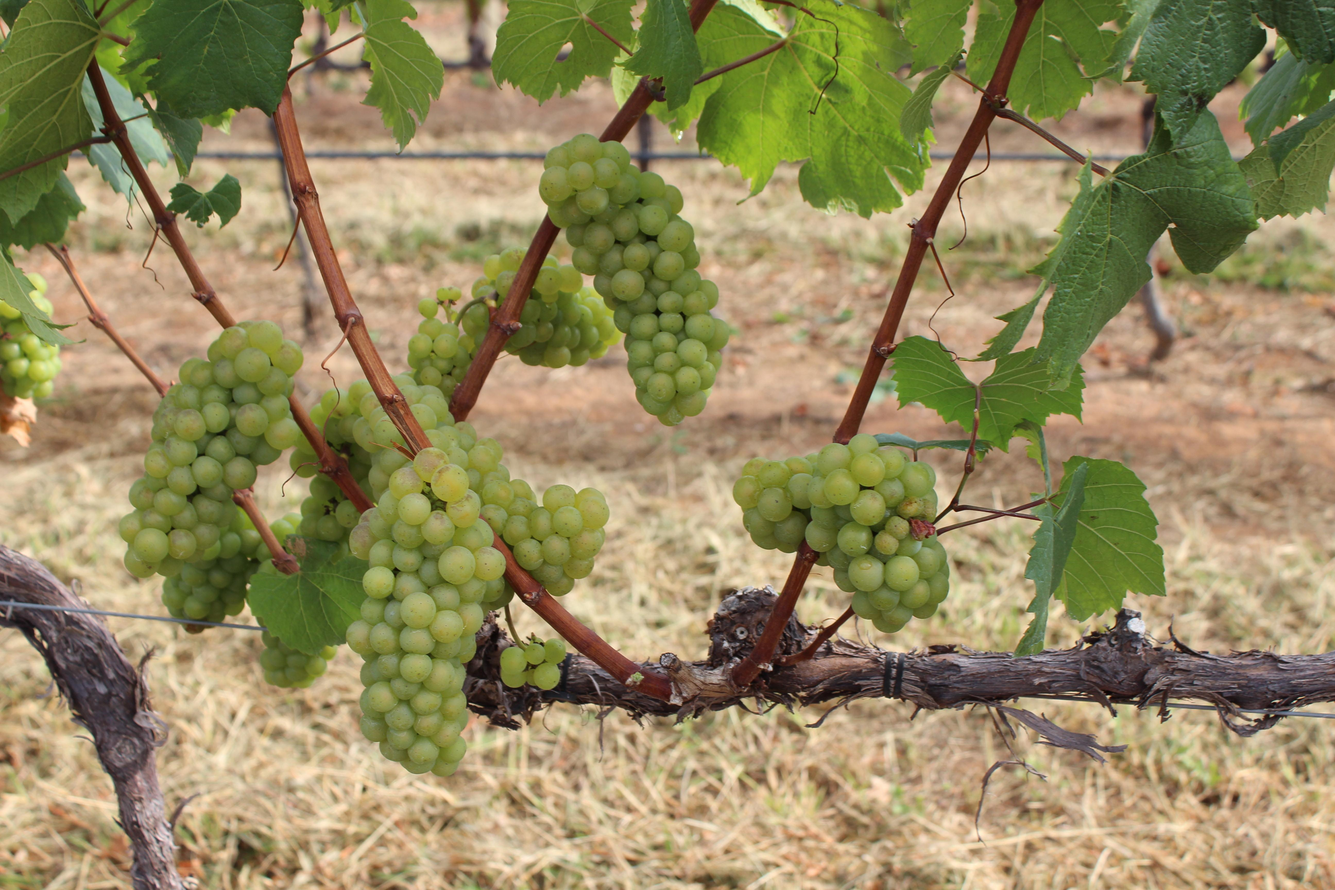leaf: (1034, 112, 1258, 386), (698, 0, 925, 216), (892, 336, 1084, 451), (124, 0, 303, 118), (1128, 0, 1265, 138), (1052, 456, 1166, 620), (0, 0, 98, 171), (1014, 462, 1090, 656), (493, 0, 634, 102), (247, 535, 367, 654), (1007, 0, 1120, 119), (364, 0, 443, 150), (1240, 101, 1335, 219), (624, 0, 704, 110), (0, 251, 74, 345), (102, 69, 170, 166), (0, 173, 86, 249), (900, 50, 962, 150), (696, 0, 783, 69), (1255, 0, 1335, 64), (904, 0, 972, 75), (0, 155, 68, 220), (651, 77, 722, 134), (167, 174, 241, 227), (968, 3, 1015, 84), (148, 109, 202, 176), (85, 143, 136, 203), (874, 433, 969, 453), (82, 77, 104, 130), (975, 439, 992, 457), (613, 69, 624, 82), (948, 58, 959, 68), (756, 45, 767, 48), (619, 94, 623, 101), (631, 81, 634, 88), (751, 49, 755, 52), (626, 90, 628, 94), (1064, 480, 1068, 482), (933, 89, 934, 92), (938, 82, 939, 85), (35, 0, 36, 2), (920, 88, 920, 88)
